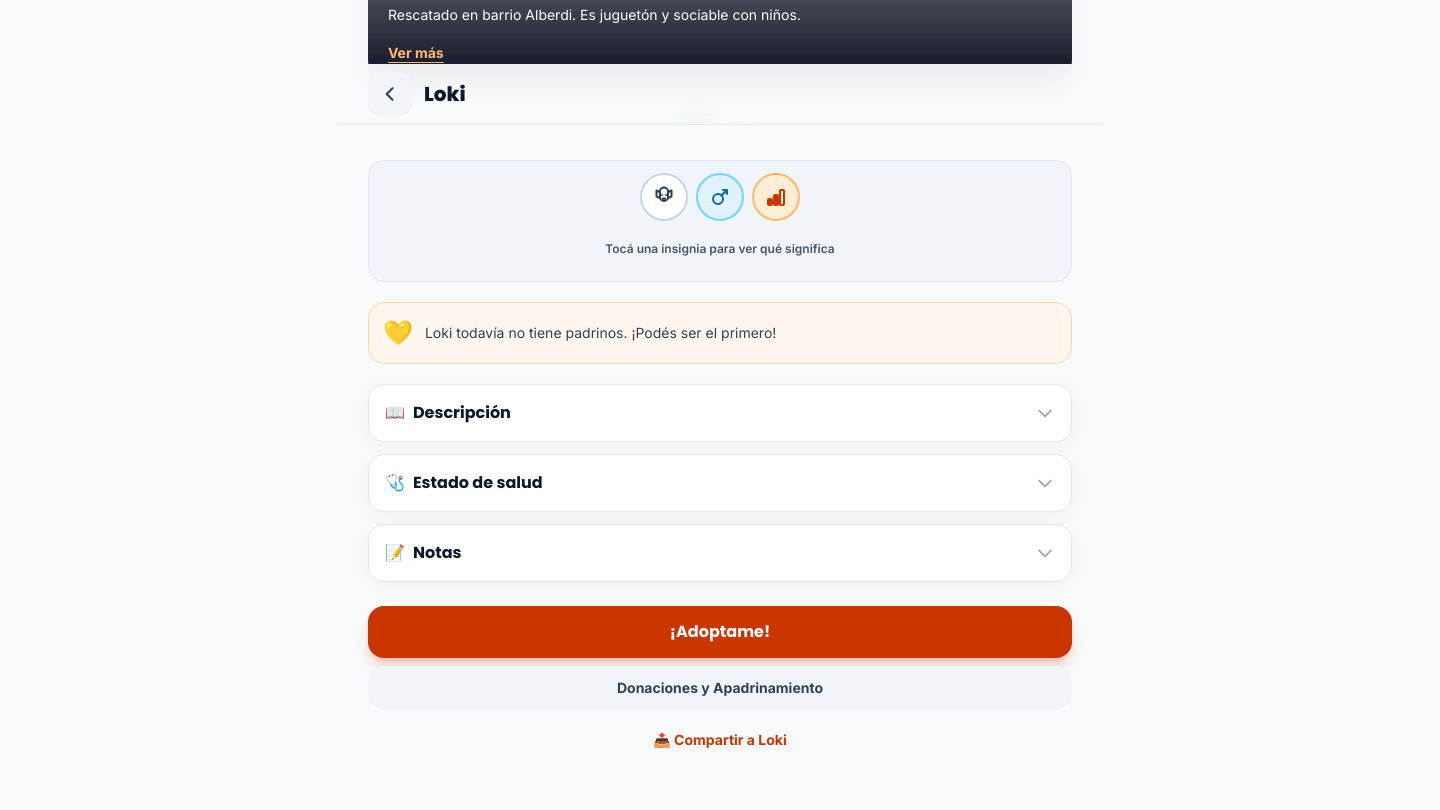
Test case: PetDetailView › con sesión iniciada abre el cuestionario de adopción al tocar ¡Adoptame!
This screenshot has width=1440, height=810.
(page scrolled)
What coordinates should you click on to do the following:
click the button "¡Adoptame!"
I would click on:
 (720, 632)
Its box is [368,606,1072,658].
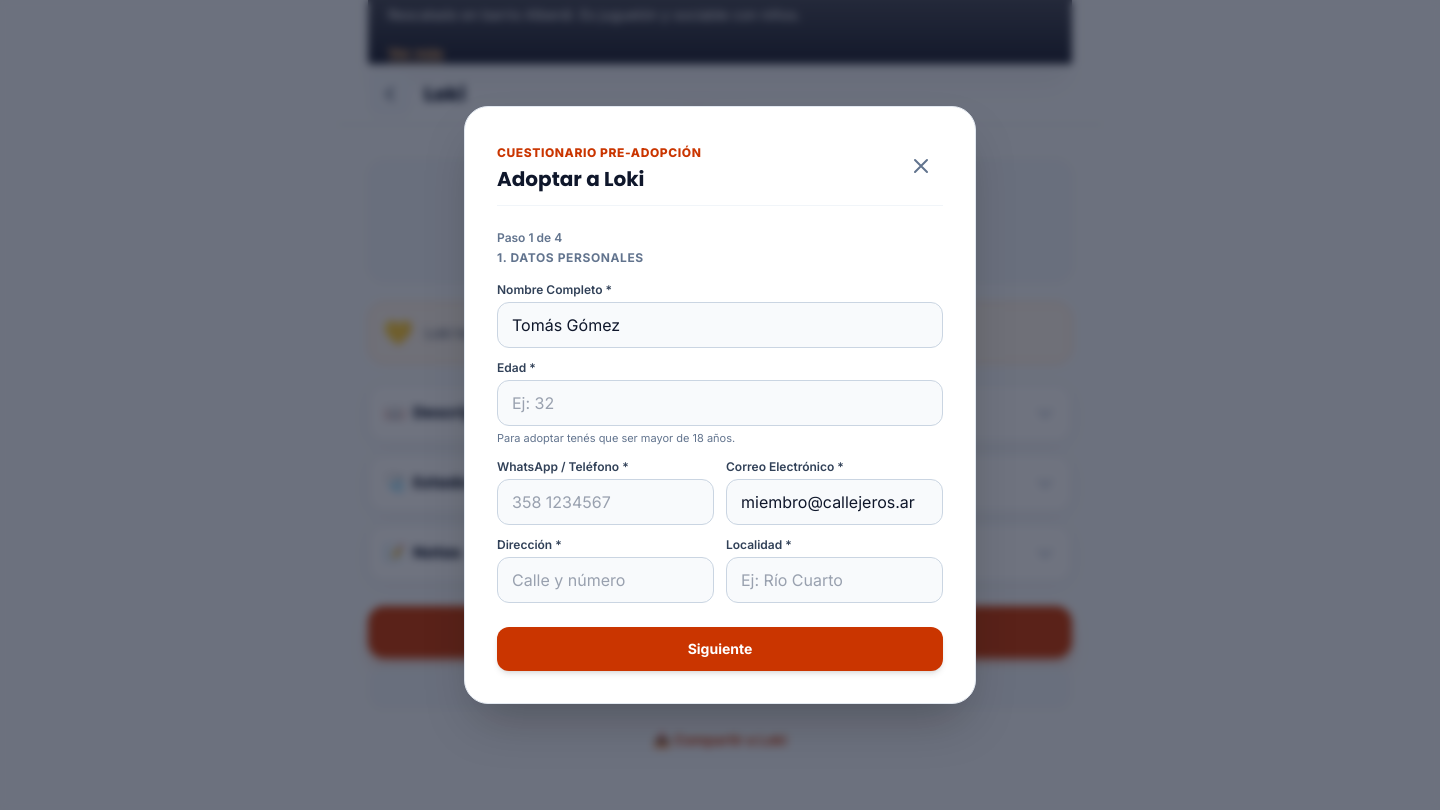
Expected: the dialog "Adoptar a Loki" is shown
Expected: the text "Paso 1 de 4" is shown, [497,230,562,245]
Expected: the field labelled "Nombre Completo *" holds "Tomás Gómez", [497,302,943,348]
